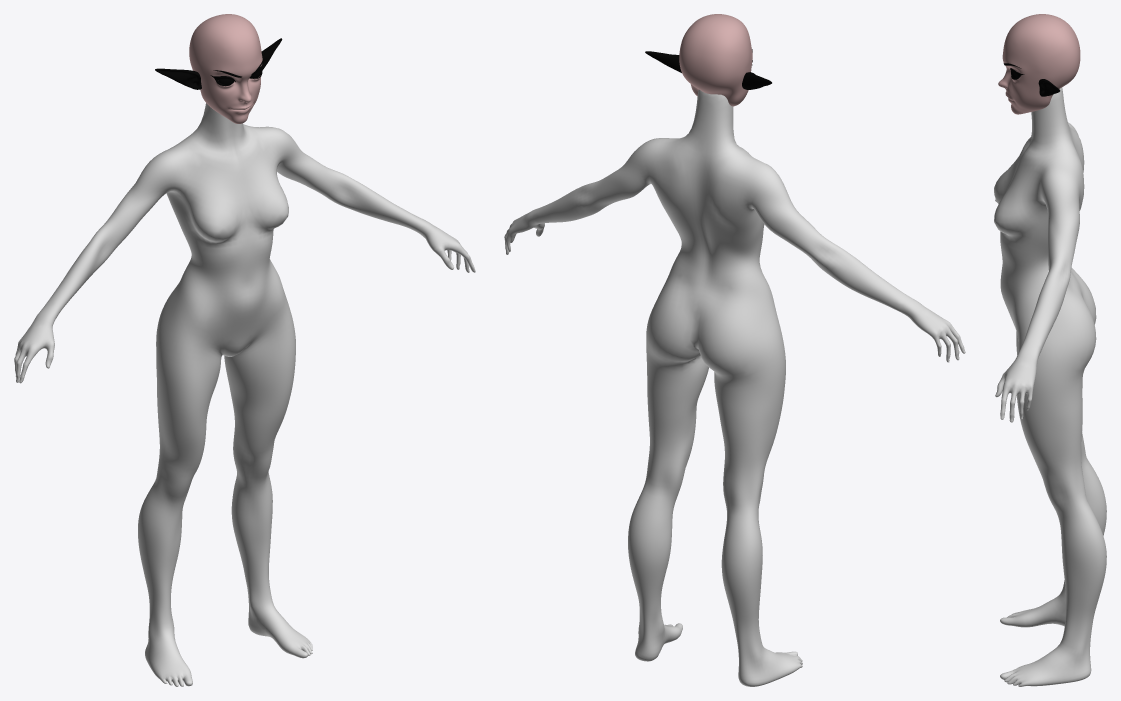
File: Elf Female Base Mesh seperated.fbx
3 renders of one model, left to right at view 1: azimuth 30°, elevation 25°; view 2: azimuth 150°, elevation 25°; view 3: azimuth 270°, elevation 25°, orthographic.
Parts seen in each view (by area): view 1: polySurface1, polySurface2; view 2: polySurface1, polySurface2; view 3: polySurface1, polySurface2.
Boxes of the visible parts, box(x1,y1,x2,y2) form: polySurface1: box(14, 103, 475, 686); polySurface2: box(155, 14, 282, 123); polySurface1: box(504, 89, 965, 686); polySurface2: box(645, 14, 771, 106); polySurface1: box(994, 87, 1106, 686); polySurface2: box(998, 14, 1080, 114).
Bounding box in the file's own units: 141 × 189 × 30.47.
